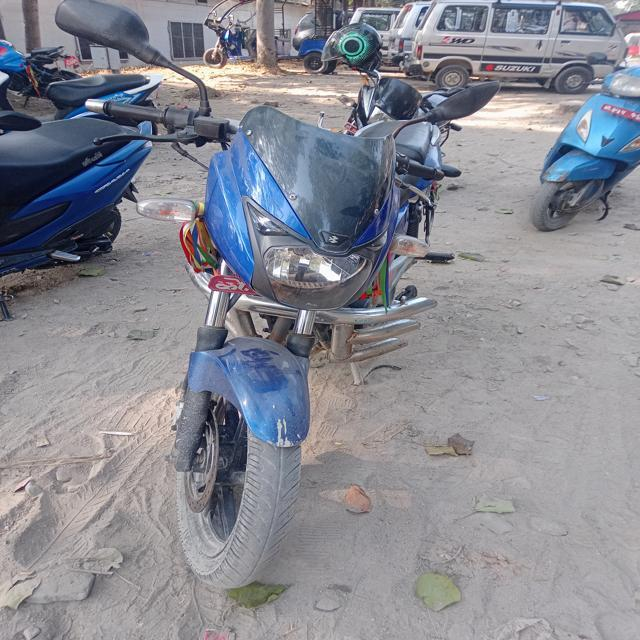license_plate: (146, 227, 452, 326)
